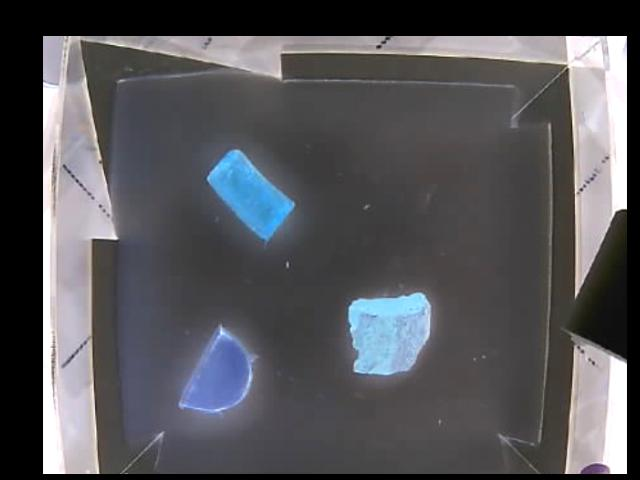Brisk: (347, 292, 430, 376)
Carrot: (203, 147, 296, 242)
Potato: (179, 327, 253, 411)
